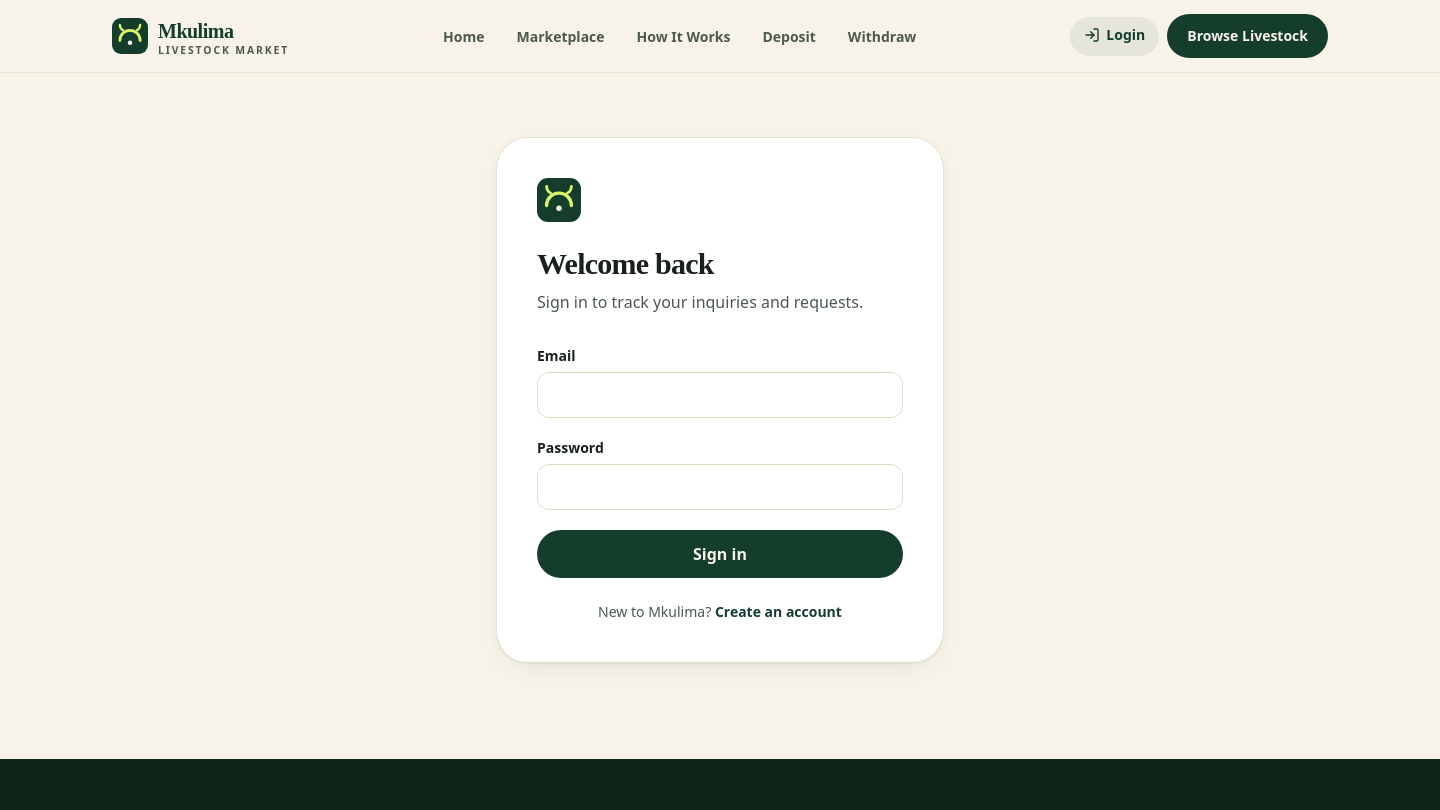
Test: Sign in, sign up and sign out › shows the server message for wrong credentials
In the field labelled "Email": (720, 395) x1=537 y1=372 x2=903 y2=418, type "otieno@example.test"
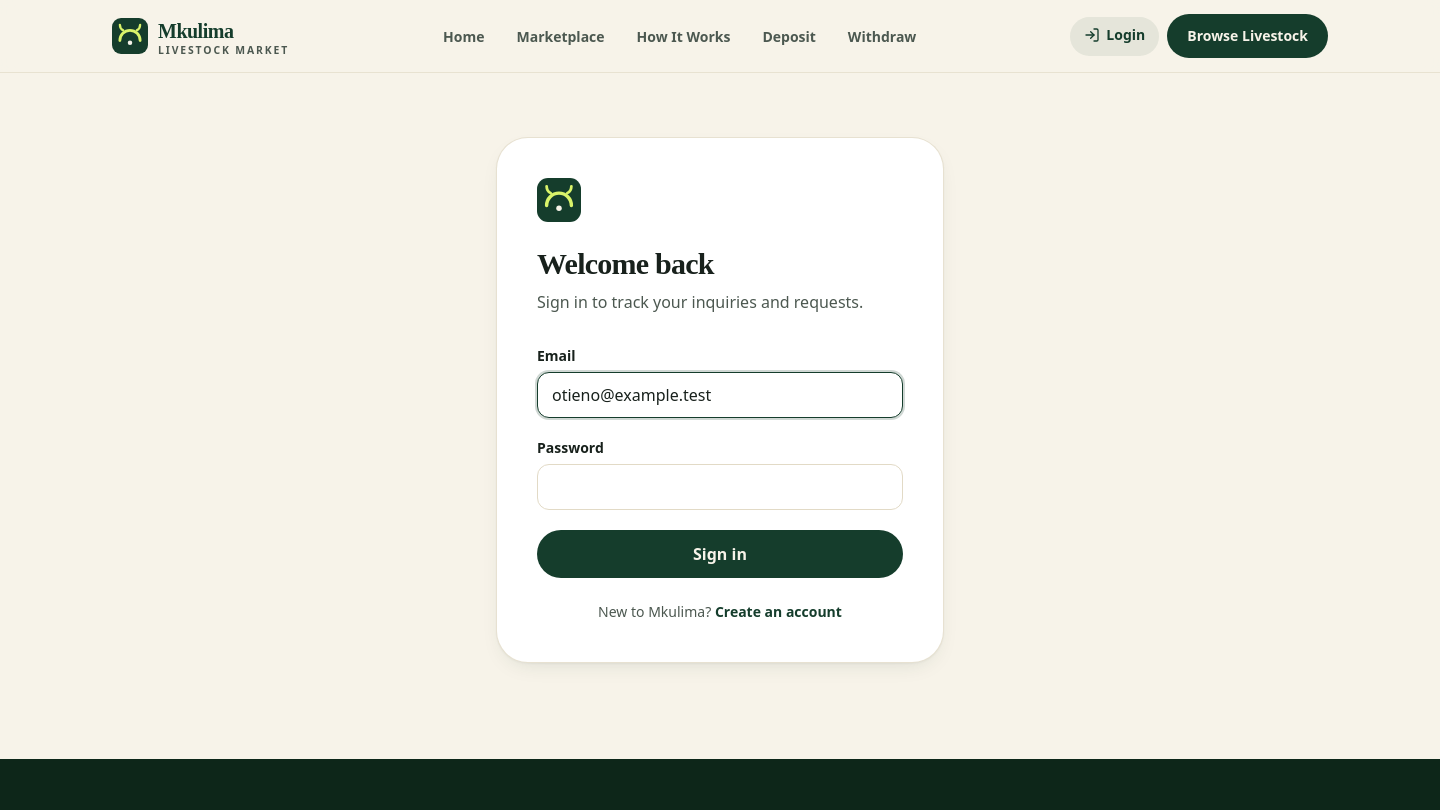
In the password field labelled "Password": (720, 487) x1=537 y1=464 x2=903 y2=510, type "wrong-password"
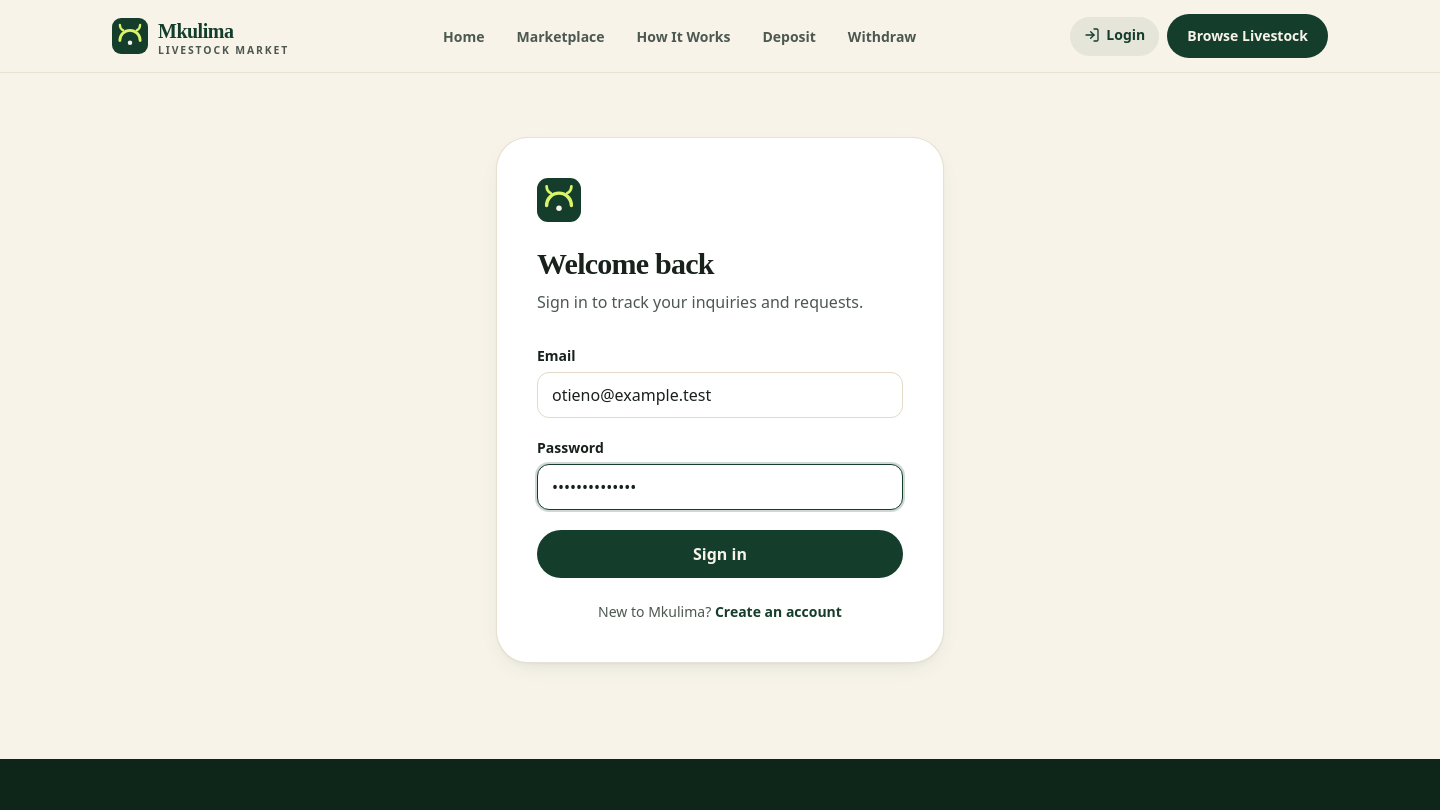
Click the button "Sign in": (720, 554) x1=537 y1=530 x2=903 y2=578
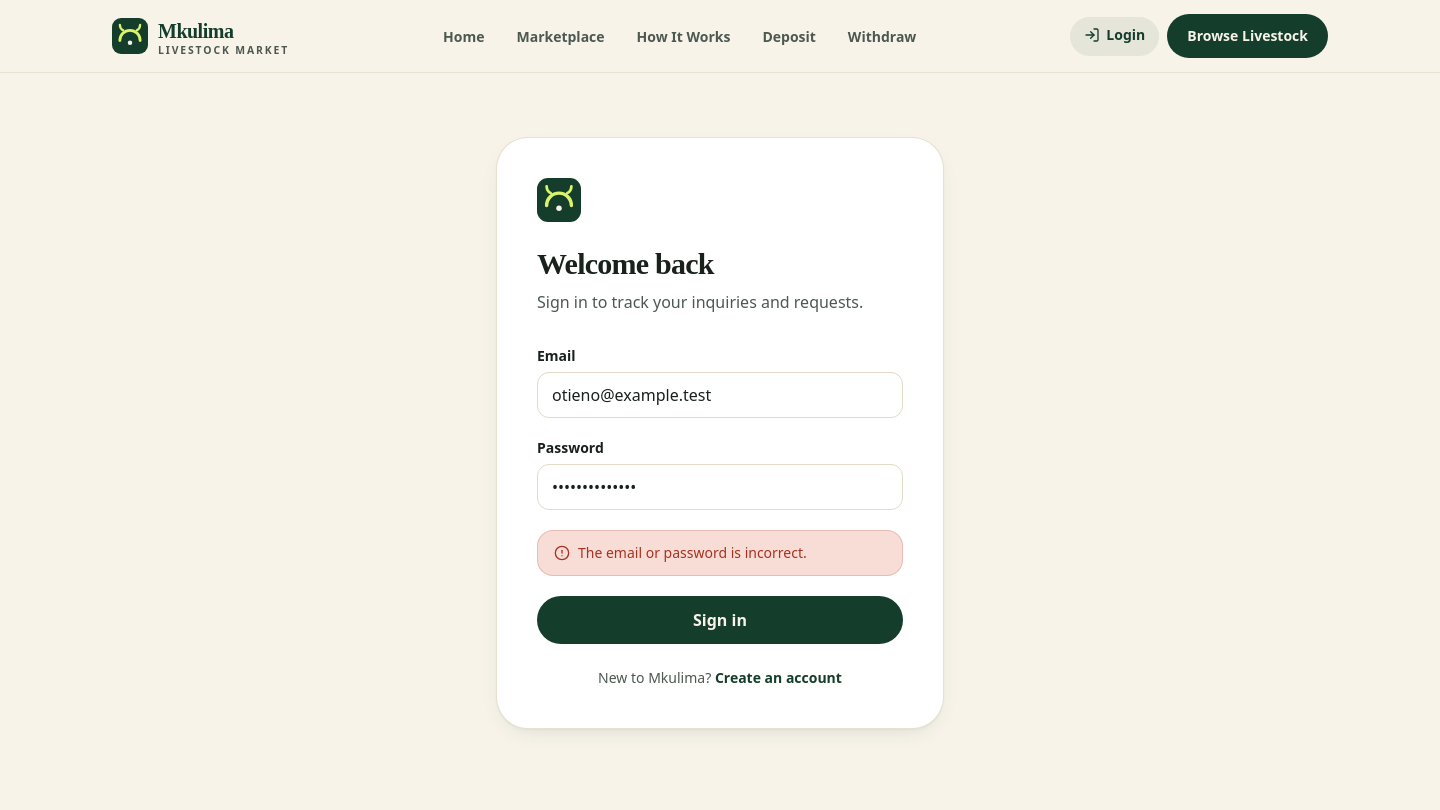
Now the text "The email or password is incorrect." is shown, box x1=578 y1=543 x2=807 y2=563
